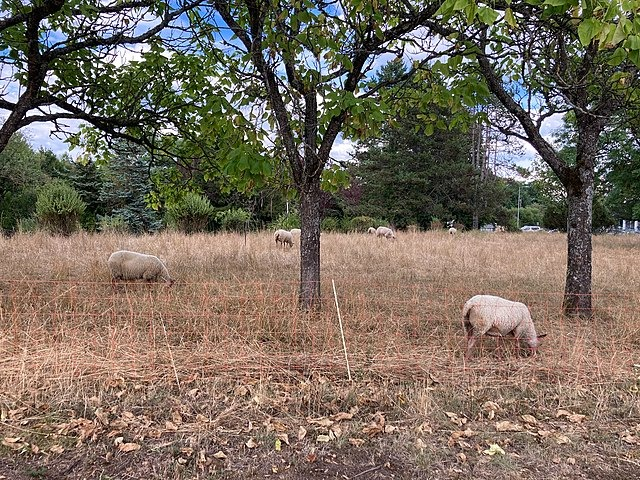grazing: (460, 294, 544, 362), (106, 248, 175, 294), (274, 226, 295, 251), (376, 224, 396, 245)
